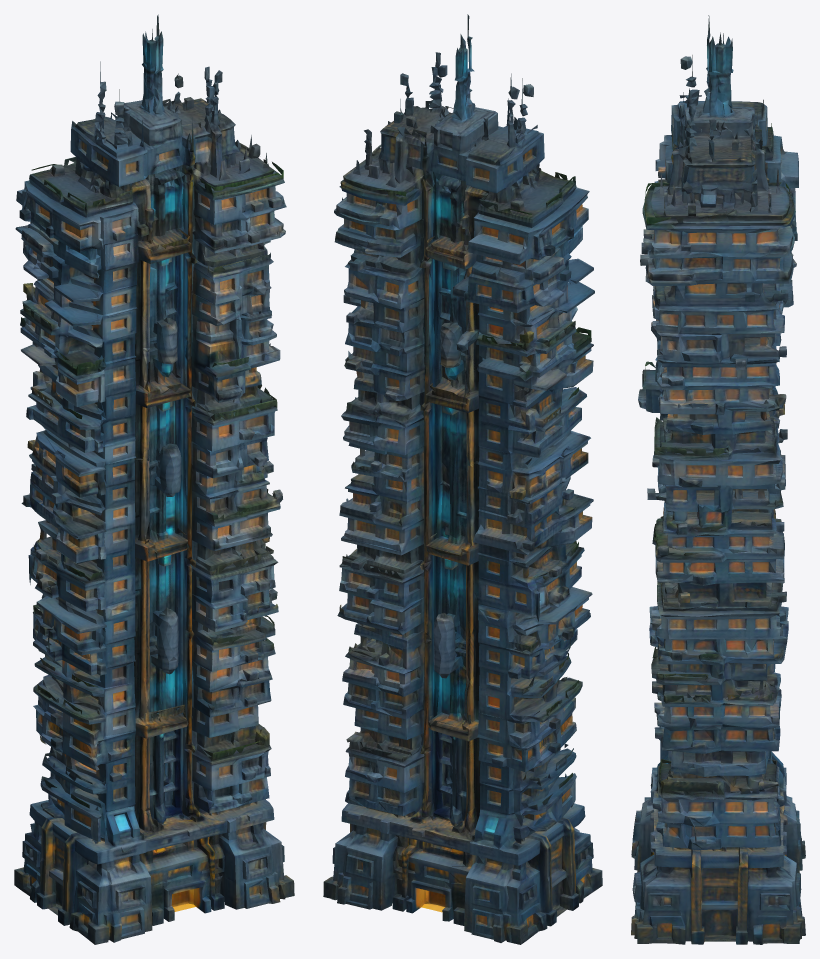
File: scene-detail.glb
3 renders of one model, left to right at view 1: azimuth 30°, elevation 25°; view 2: azimuth 150°, elevation 25°; view 3: azimuth 270°, elevation 25°, orthographic.
Visible parts, largest first — view 1: model; view 2: model; view 3: model.
Boxes of the visible parts, x1=… form: model: x1=14, y1=14, x2=294, y2=944; model: x1=323, y1=14, x2=602, y2=944; model: x1=631, y1=15, x2=805, y2=944.
Size of the model in its own units: 0.5014 by 1.93 by 0.3475.
Materials: 1 (1 with a texture image).
